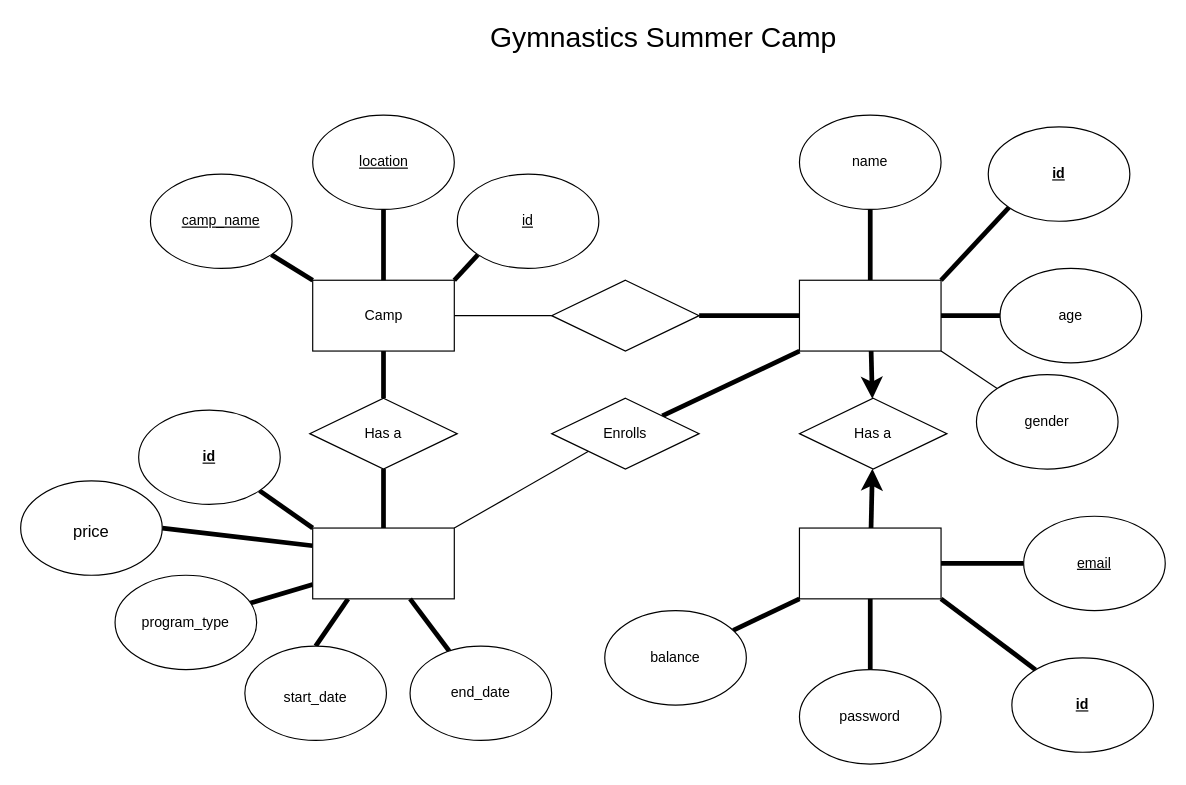
Some shapes in this 1186 by 785 pixel diagram are drawn without their labels. Each missing label, with the centre of its shape:
Account: pixel 869 563
Camper: pixel 869 315
Goes: pixel 624 315
Program: pixel 383 563
